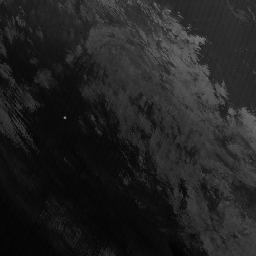Target: (61, 115, 67, 121)
